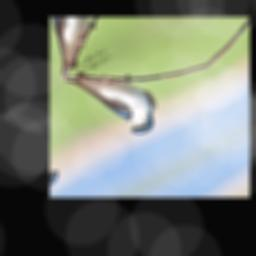Swallow: (63, 47, 170, 152)
